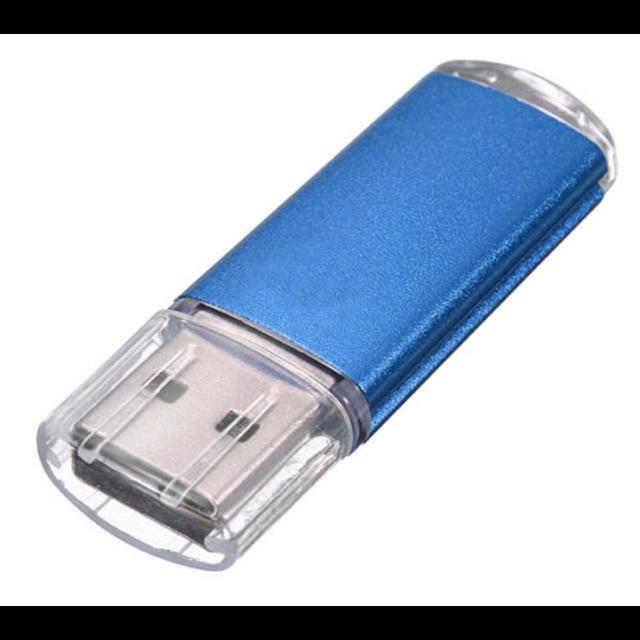USB-Flash-Drive: (31, 55, 621, 575)
